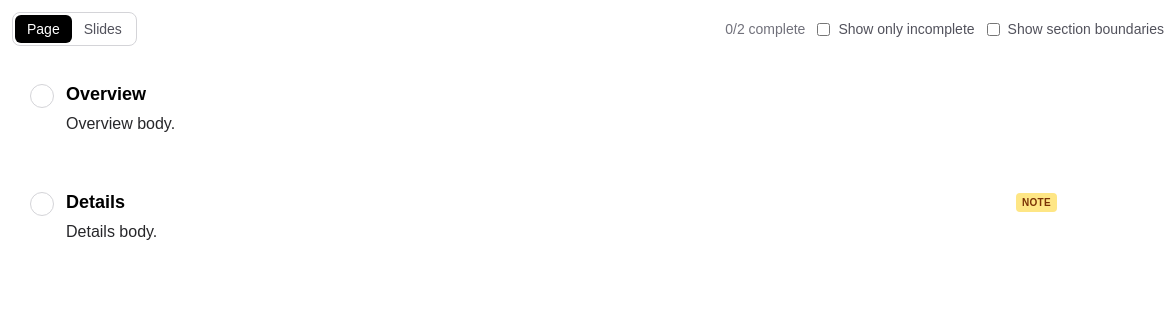
Scenario: ContentBlocks › completion tracking › shows the lesson-complete banner only once every block is done
Check: the text "Lesson complete ✓" is not shown
Click the 1st button named "Mark as done".
click(42, 96)  # box 30,84 -> 54,108
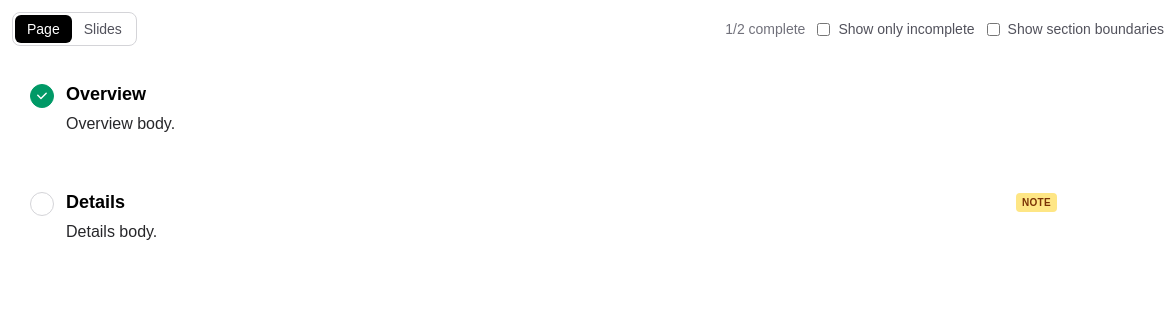
Click the button named "Mark as done".
click(42, 204)  # box 30,192 -> 54,216
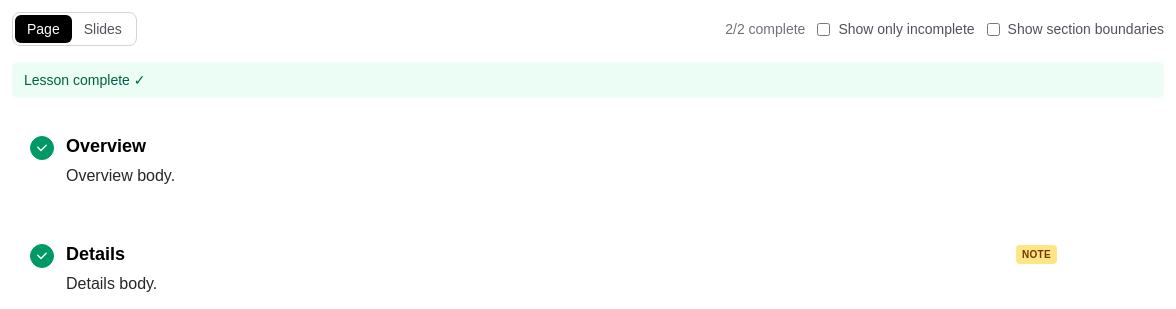
Check: the text "Lesson complete ✓" is shown, box 12,62 -> 1164,98
